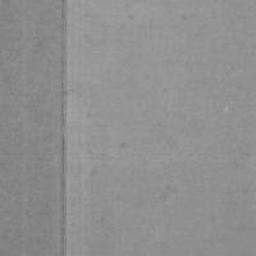Welding line: (59, 0, 69, 256)
